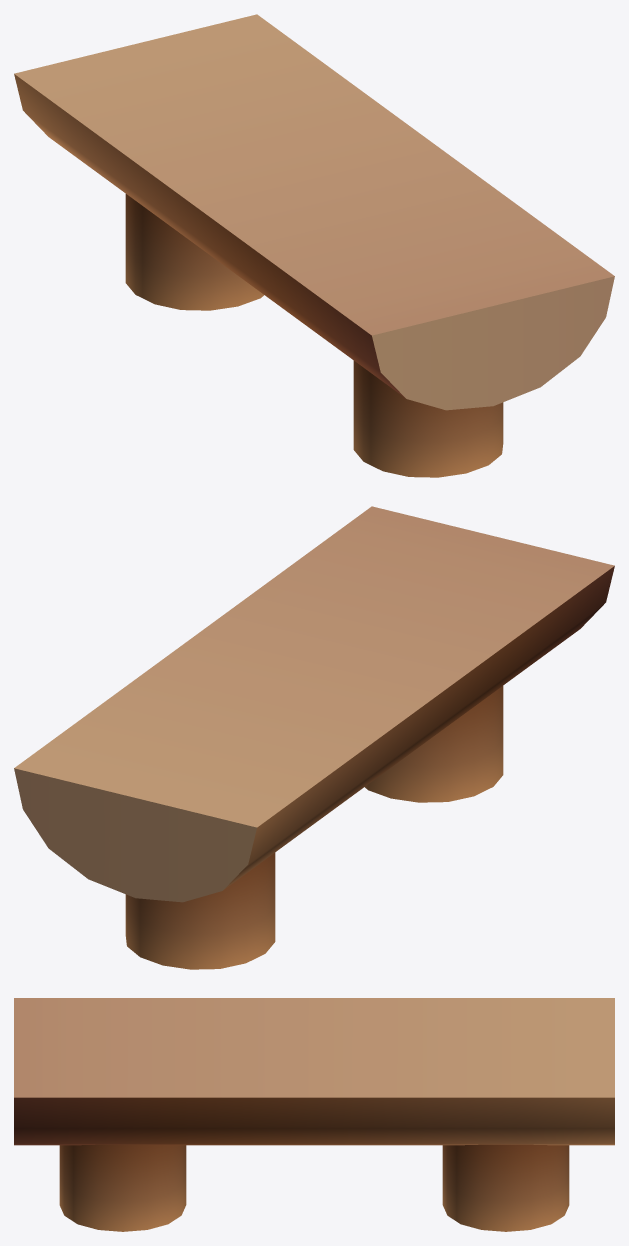
Rendered from bench_fbx.fbx.
3 views of the same model, one above another, from view 1: azimuth 30°, elevation 25°; view 2: azimuth 150°, elevation 25°; view 3: azimuth 270°, elevation 25° (orthographic). The views are drawn at different scales.
Parts seen in each view (by area): view 1: tree5_Cube.004; view 2: tree5_Cube.004; view 3: tree5_Cube.004.
Boxes of the visible parts, x1=… form: tree5_Cube.004: x1=14, y1=14, x2=614, y2=477; tree5_Cube.004: x1=14, y1=506, x2=614, y2=969; tree5_Cube.004: x1=14, y1=998, x2=614, y2=1231.
Bounding box in the file's own units: 106 × 78.26 × 271.
